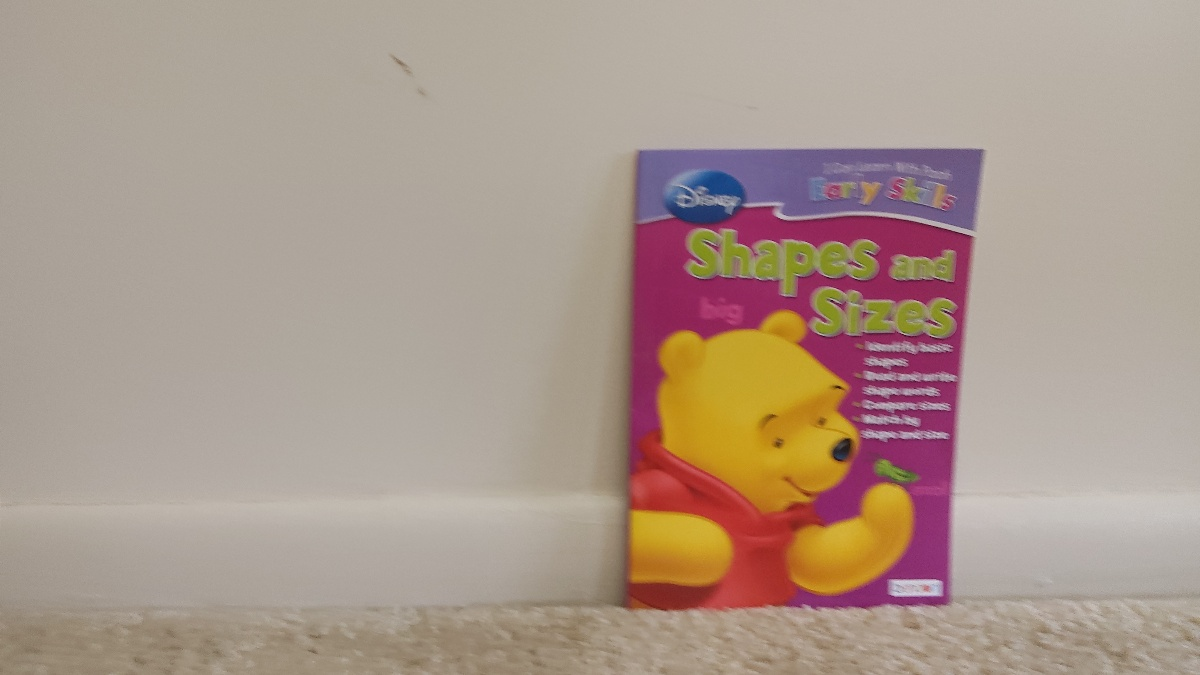book: (641, 153, 951, 602)
